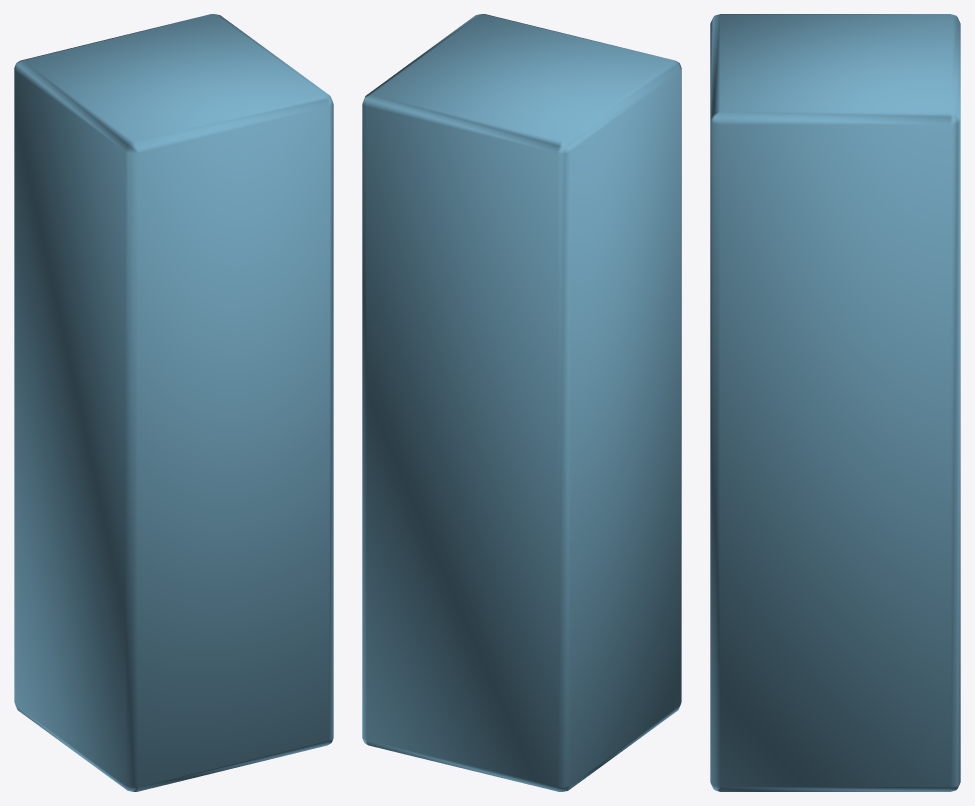
The model's file is B04_TALL_BLOCK.fbx.
3 renders of one model, left to right at view 1: azimuth 30°, elevation 25°; view 2: azimuth 150°, elevation 25°; view 3: azimuth 270°, elevation 25°, orthographic. The views are drawn at different scales.
Parts seen in each view (by area): view 1: B04_TALL_BLOCK; view 2: B04_TALL_BLOCK; view 3: B04_TALL_BLOCK.
Part boxes in pixels (x1,y1,x2,y2): B04_TALL_BLOCK: (14,14,333,791); B04_TALL_BLOCK: (362,14,681,791); B04_TALL_BLOCK: (710,14,960,791).
Bounding box in the file's own units: 100 × 300 × 100.
